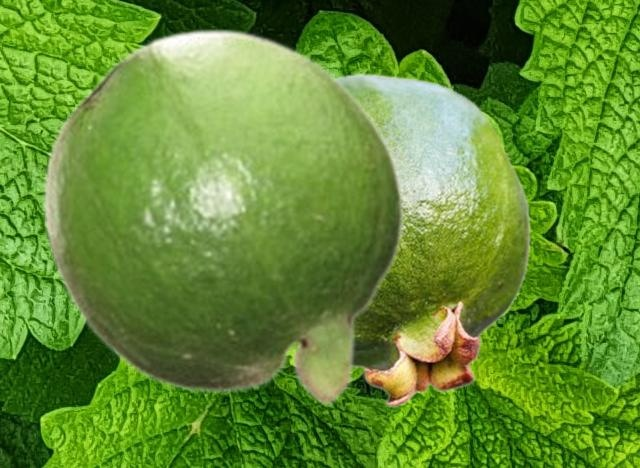guava: (40, 26, 404, 407), (337, 73, 530, 407)
